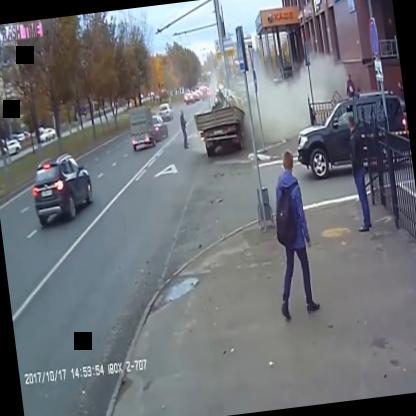accident: (188, 70, 308, 152)
